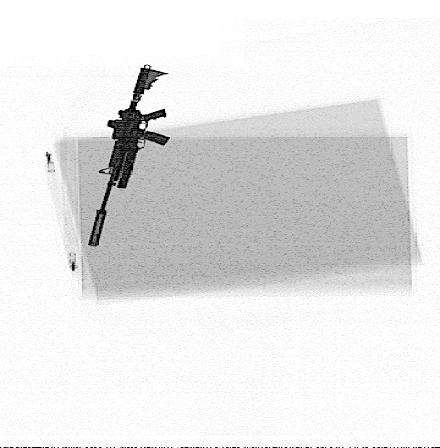Gun: (88, 68, 172, 247)
